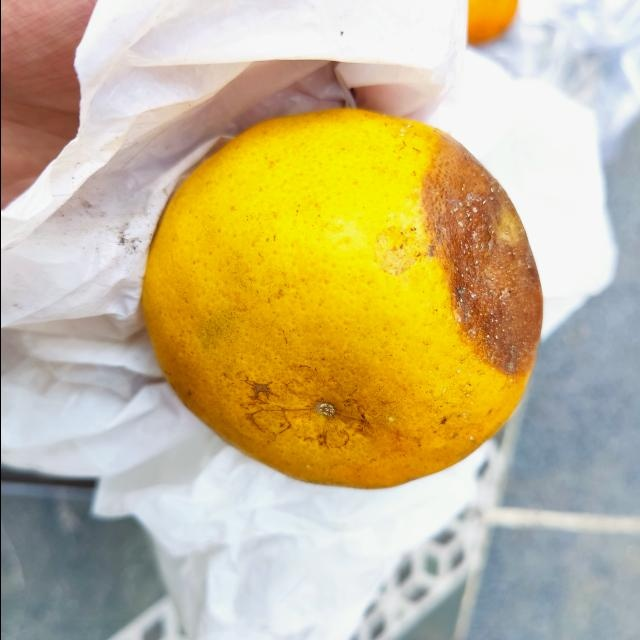agrume: (141, 105, 543, 489)
